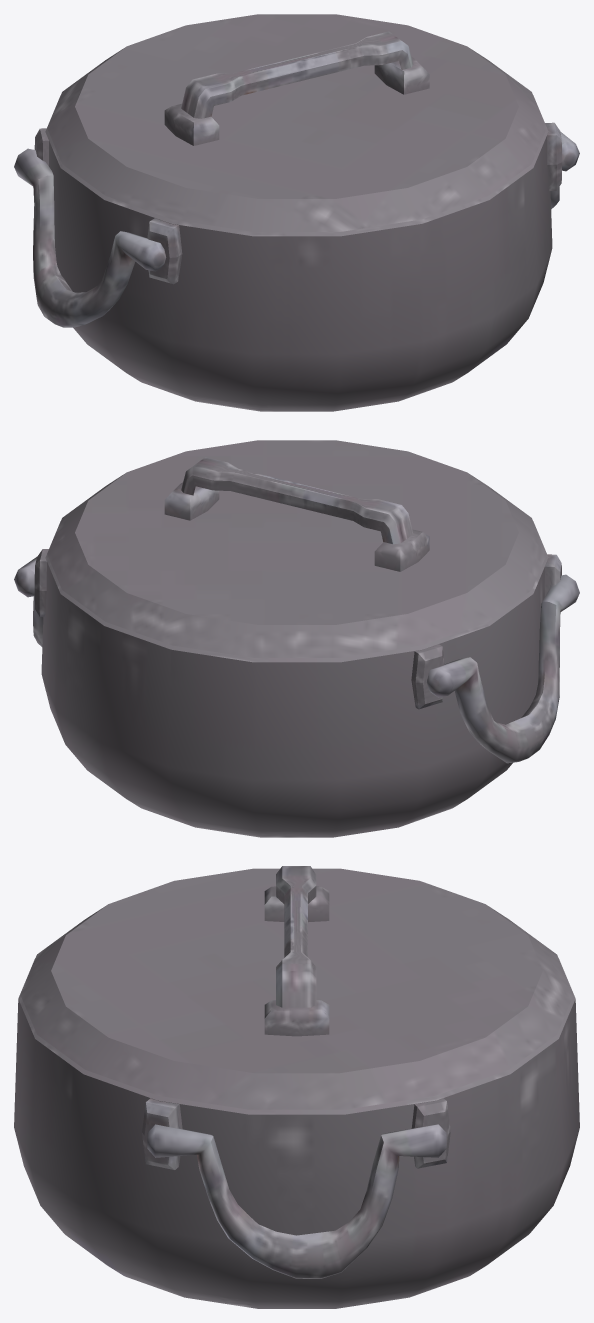
File: quaternius-fantasy-props-pot-1-lid.glb
3 views of the same model, one above another, from view 1: azimuth 30°, elevation 25°; view 2: azimuth 150°, elevation 25°; view 3: azimuth 270°, elevation 25° (orthographic). The views are drawn at different scales.
Parts seen in each view (by area): view 1: Pot_1_Lid; view 2: Pot_1_Lid; view 3: Pot_1_Lid.
Part boxes in pixels (left/top/right/bottom): Pot_1_Lid: left=14, top=14, right=579, bottom=411; Pot_1_Lid: left=14, top=440, right=579, bottom=837; Pot_1_Lid: left=14, top=866, right=579, bottom=1308.
Bounding box in the file's own units: 0.4 × 0.208 × 0.3605.
Materials: 1 (1 with a texture image).
